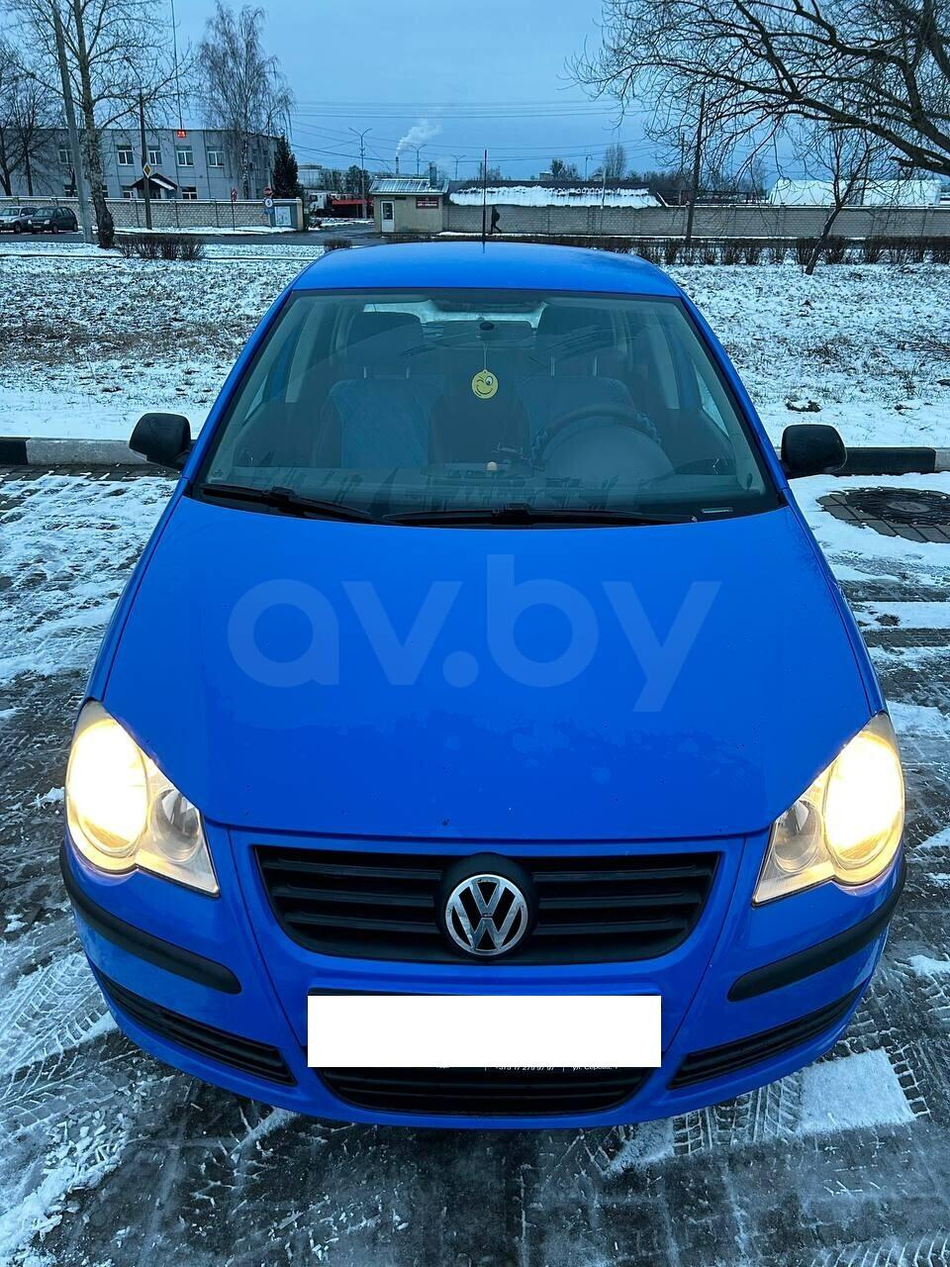Polo_2005-2009: (37, 242, 914, 1160)
